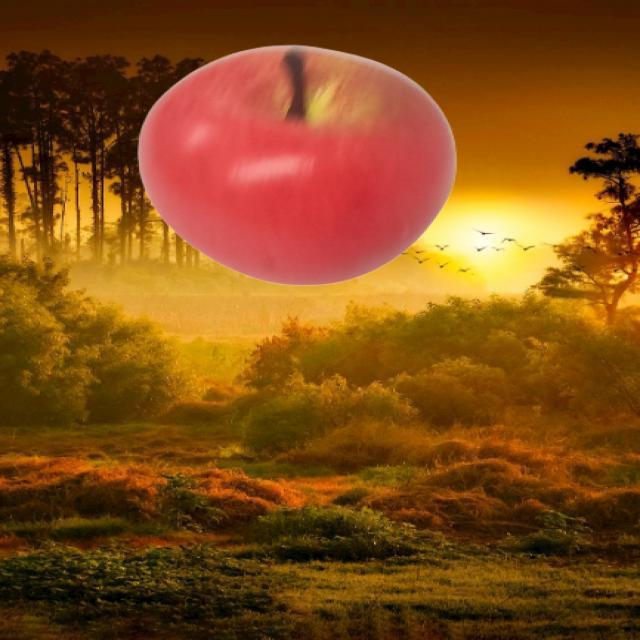apple: (136, 45, 458, 288)
